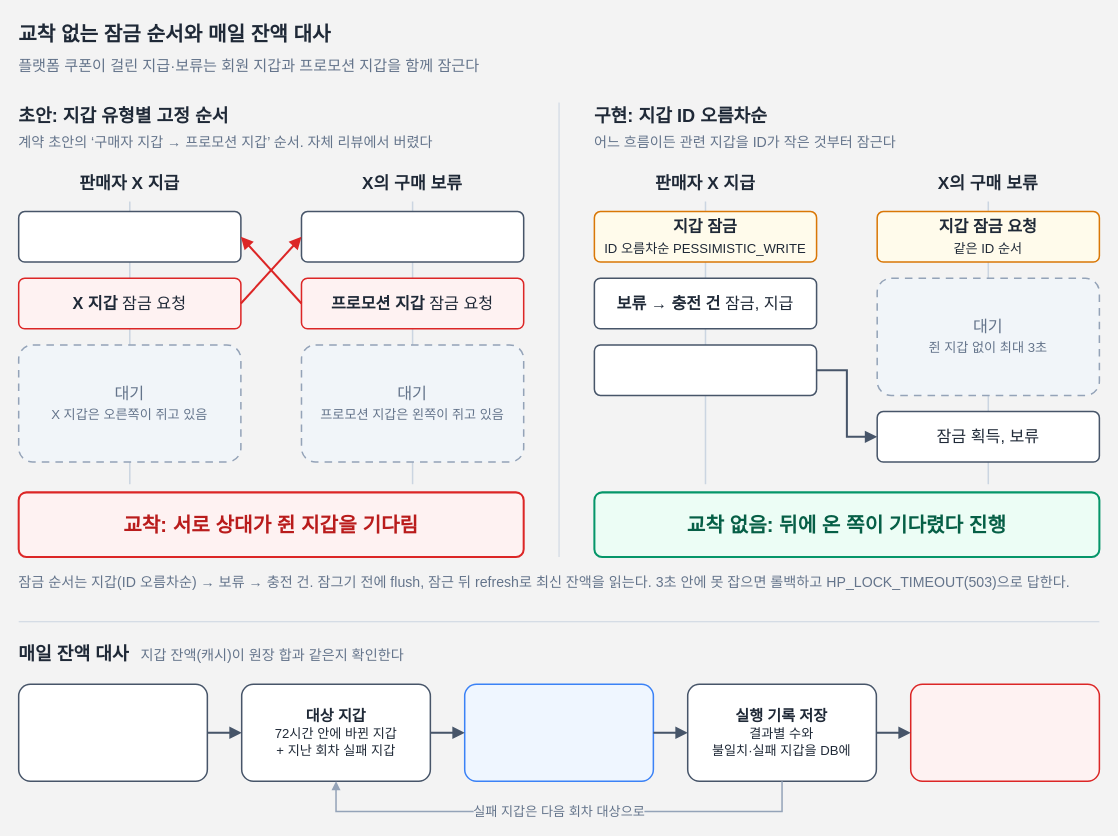
Some shapes in this 1118 by 836 pixel diagram are drawn without their labels. The shapes that lost their labels are listed below. From the top down, each one's box as (x1, y1, x2, y2) in pixels, then its label:
(17, 210, 241, 262): 프로모션 지갑 잠금
(300, 210, 524, 262): X 지갑 잠금
(593, 344, 817, 396): COMMIT, 잠금 해제
(17, 683, 208, 782): 매일 04:02:45 KST 실행 락을 잡은 pod 하나만
(463, 683, 654, 782): 지갑 잔액 ↔ 원장 합 지갑마다 한 스냅숏 (REPEATABLE_READ) 불일치는 고치지 않음
(910, 683, 1100, 782): 지표 → Grafana alert 불일치·실패 지갑 수 > 0 “지갑 잔액 대사 불일치·실패”
